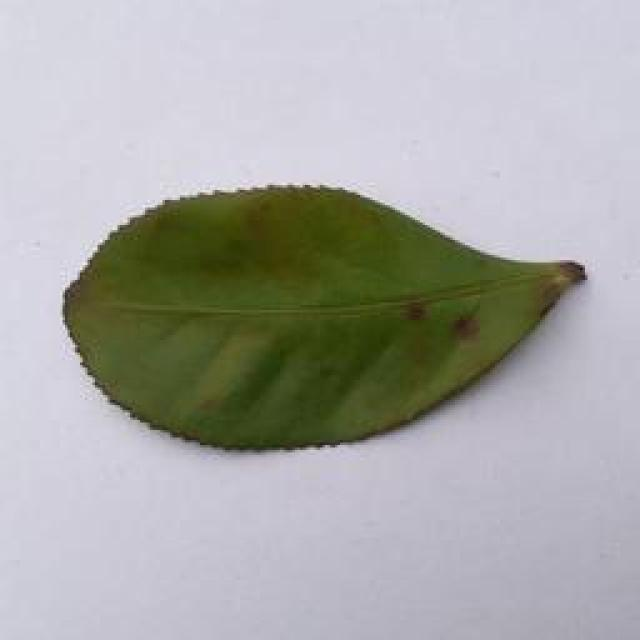Red Leaf Spot: (56, 166, 587, 459)
